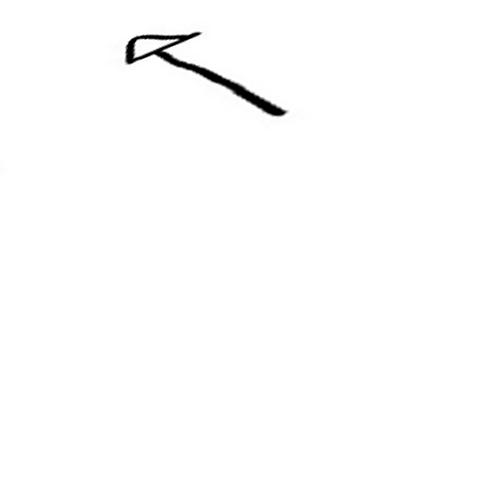arrow: (121, 31, 281, 117)
